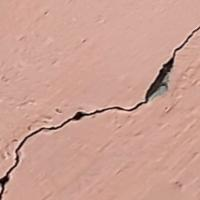crack: (0, 26, 199, 197)
